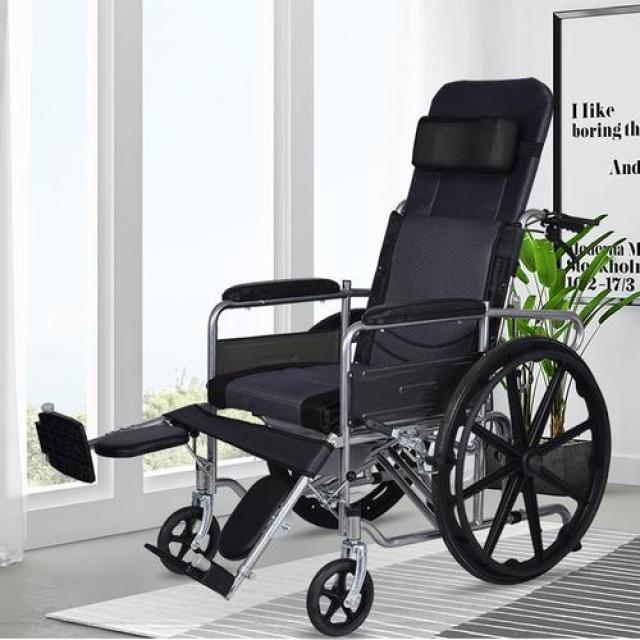wheelchairs: (57, 62, 640, 636)
